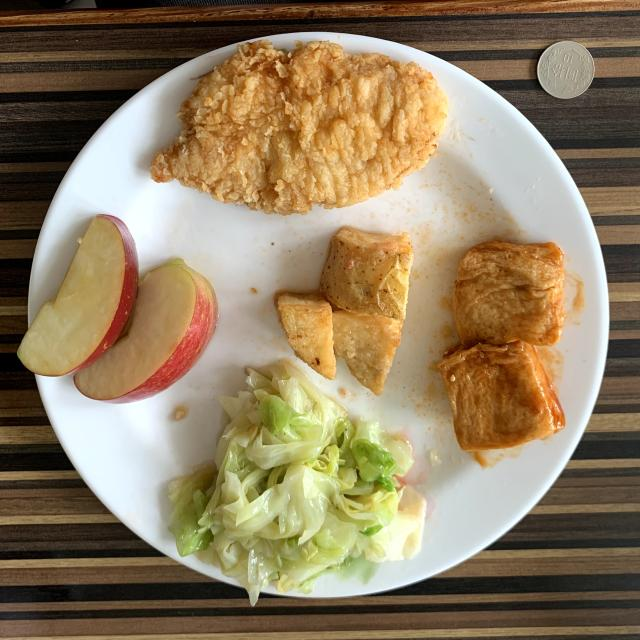apple -sliced-: (18, 215, 218, 402)
cabbage: (170, 362, 425, 604)
coin: (536, 41, 595, 99)
creamy tofu: (438, 241, 565, 451)
fried chicken cutlet: (151, 40, 449, 215)
fried potato: (276, 226, 414, 395)
